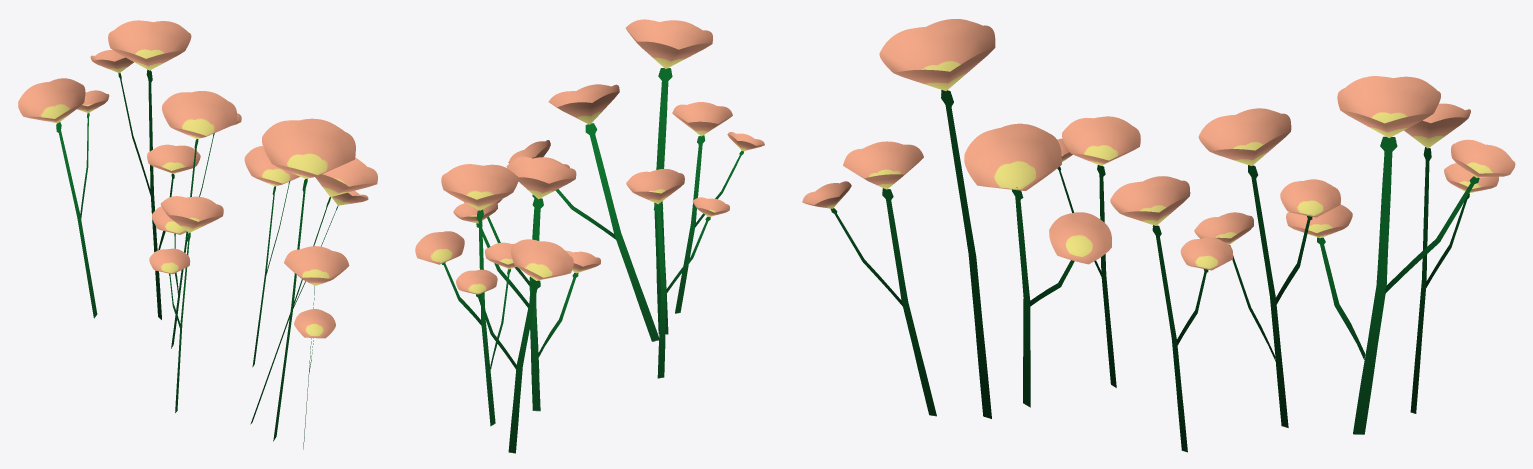
File: flower_B.fbx
3 renders of one model, left to right at view 1: azimuth 30°, elevation 25°; view 2: azimuth 150°, elevation 25°; view 3: azimuth 270°, elevation 25°, orthographic. The views are drawn at different scales.
Visible parts, largest first — view 1: flowerB; view 2: flowerB; view 3: flowerB.
Part boxes in pixels (x1,y1,x2,y2): flowerB: [18, 20, 377, 449]; flowerB: [415, 19, 764, 453]; flowerB: [802, 19, 1515, 452].
Size of the model in its own units: 44.9 by 59.93 by 98.29.
